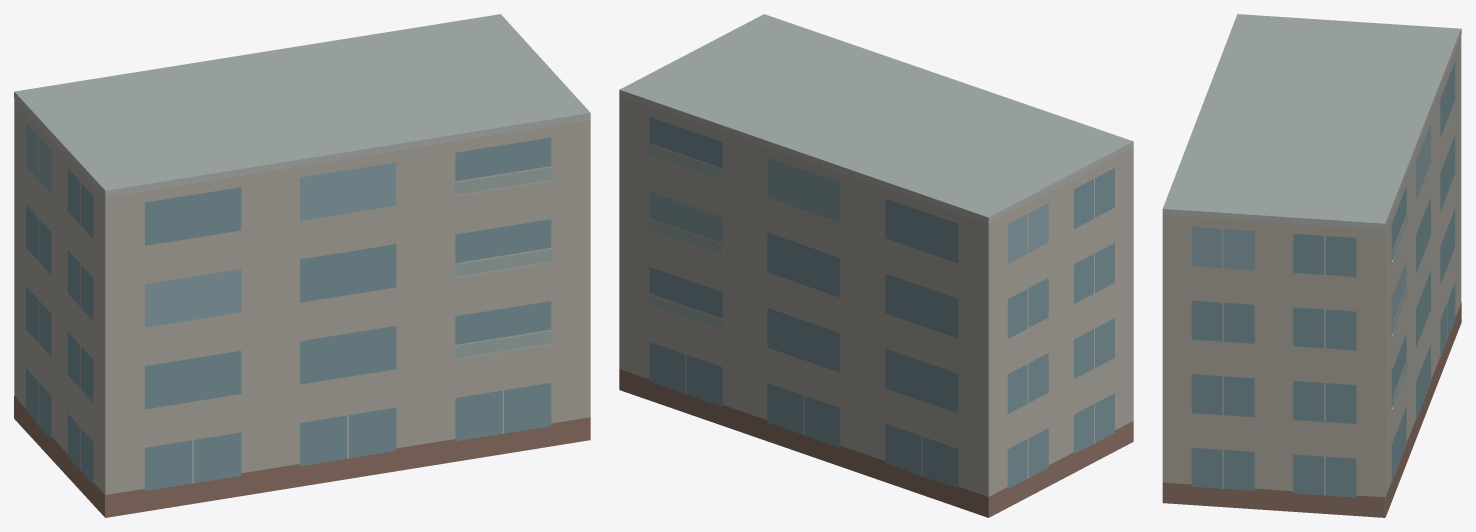
The model's file is survey-upis-32989362.glb.
The picture shows the model from 3 angles, left to right: view 1: azimuth 30°, elevation 25°; view 2: azimuth 150°, elevation 25°; view 3: azimuth 270°, elevation 25°; orthographic projection. The views are drawn at different scales.
Visible parts, largest first — view 1: survey-upis-32989362.tmp; view 2: survey-upis-32989362.tmp; view 3: survey-upis-32989362.tmp.
Boxes of the visible parts, left/top/right/bottom form: survey-upis-32989362.tmp: left=14, top=14, right=590, bottom=517; survey-upis-32989362.tmp: left=619, top=14, right=1133, bottom=517; survey-upis-32989362.tmp: left=1162, top=14, right=1461, bottom=517.
Bounding box in the file's own units: 17.89 × 11.7 × 10.78.
